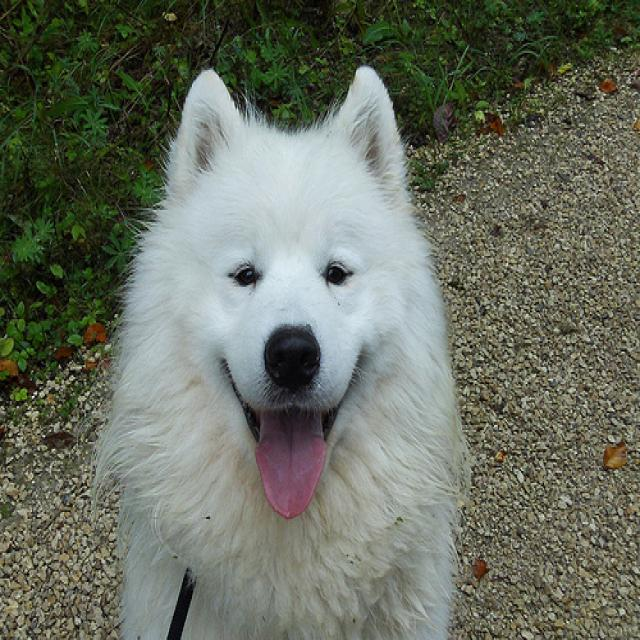dog-samoyed: (86, 60, 472, 637)
